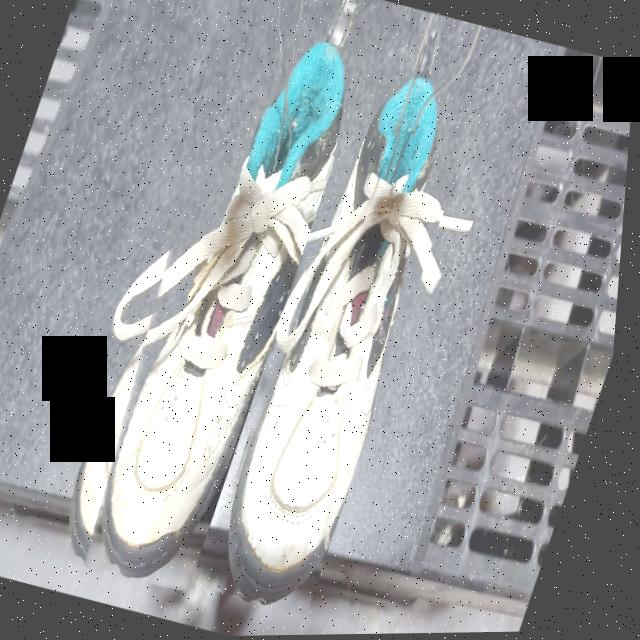shoe: (54, 17, 373, 599), (203, 61, 488, 618)
